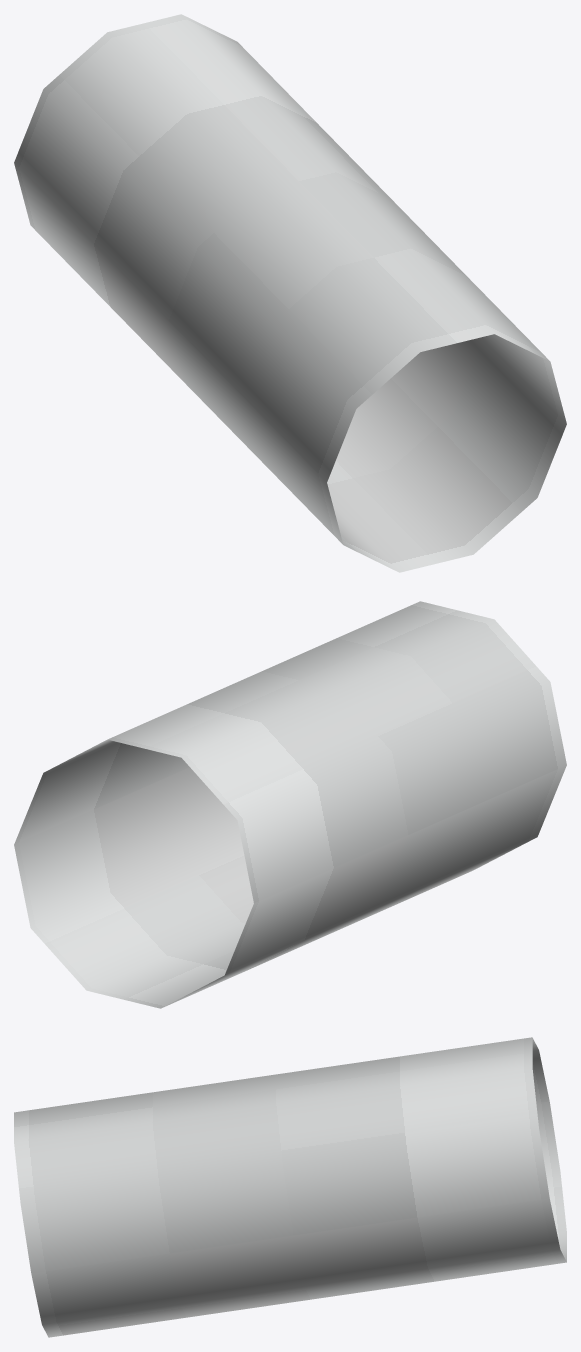
File: trusssignalarm_sloped12_c17.obj
The picture shows the model from 3 angles, top to bottom: view 1: azimuth 30°, elevation 25°; view 2: azimuth 150°, elevation 25°; view 3: azimuth 270°, elevation 25°; orthographic projection. The views are drawn at different scales.
Visible parts, largest first — view 1: trusssignalarm_sloped12_c17; view 2: trusssignalarm_sloped12_c17; view 3: trusssignalarm_sloped12_c17.
Part boxes in pixels (x1,y1,x2,y2): trusssignalarm_sloped12_c17: (14,14,566,572); trusssignalarm_sloped12_c17: (14,601,566,1008); trusssignalarm_sloped12_c17: (14,1037,566,1337).
Size of the model in its own units: 0.325 by 0.4227 by 0.7832.
